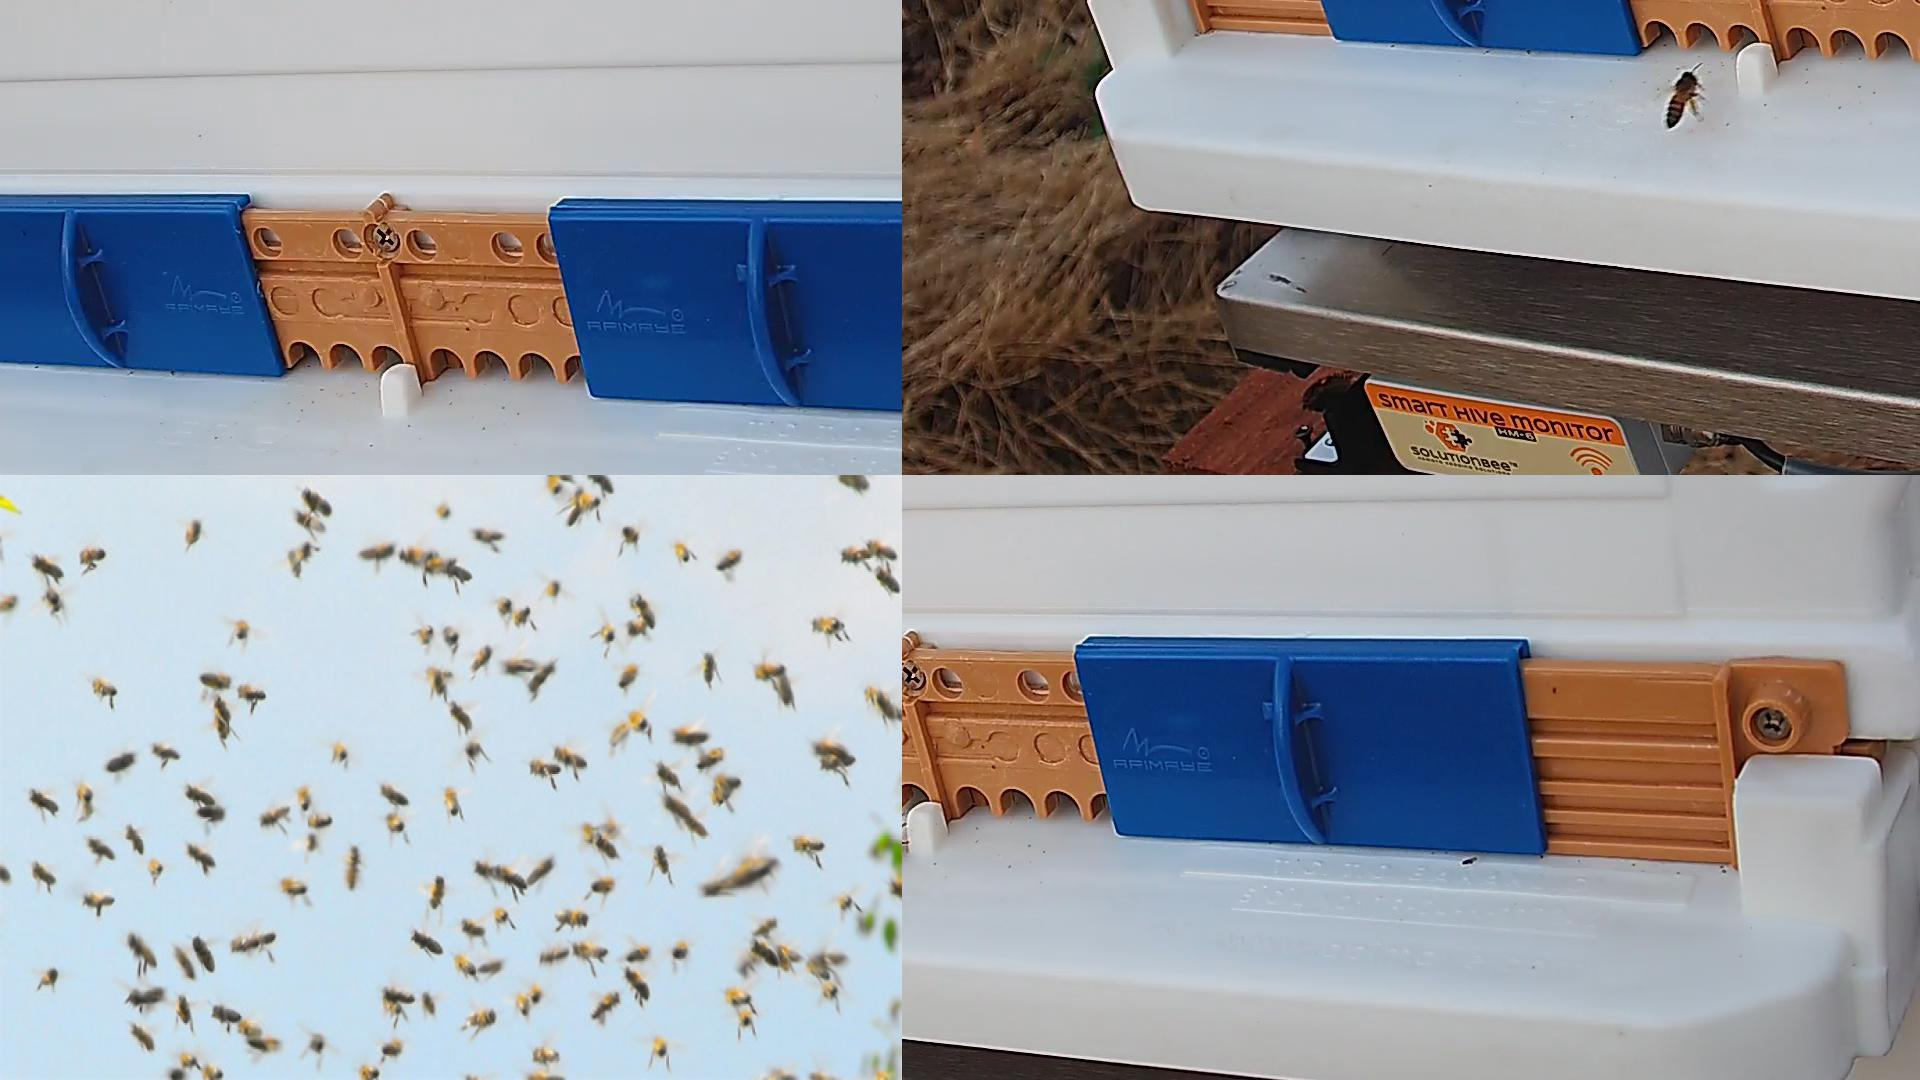bee: (866, 686, 901, 720), (129, 932, 157, 967), (624, 967, 650, 998), (744, 856, 778, 880), (815, 742, 856, 762), (679, 811, 708, 837), (529, 856, 555, 885), (193, 938, 214, 973), (303, 487, 330, 514), (704, 876, 741, 895), (750, 939, 777, 967), (592, 992, 620, 1018), (471, 862, 505, 884), (186, 843, 216, 866), (131, 1022, 154, 1052), (413, 931, 443, 953), (715, 775, 740, 802), (529, 662, 553, 690), (185, 787, 218, 807), (32, 555, 65, 575), (380, 783, 409, 806), (495, 868, 525, 889), (866, 539, 897, 560), (127, 988, 161, 1006), (215, 699, 231, 738), (290, 543, 314, 570), (876, 568, 899, 595), (555, 910, 588, 928), (452, 700, 472, 731), (32, 790, 58, 812), (398, 549, 433, 566), (247, 932, 276, 952), (810, 952, 849, 967), (636, 599, 655, 628), (574, 944, 607, 961), (567, 489, 583, 525), (595, 836, 618, 860), (699, 748, 724, 770), (90, 837, 115, 860), (127, 824, 145, 855), (775, 944, 794, 975), (175, 948, 194, 978), (662, 795, 688, 816), (554, 749, 585, 766), (79, 785, 95, 819), (793, 835, 824, 852), (811, 618, 843, 636), (212, 1004, 241, 1022), (347, 845, 359, 890), (716, 549, 741, 570), (471, 645, 491, 671), (587, 475, 613, 495), (260, 807, 290, 824), (653, 844, 670, 874), (541, 947, 568, 965), (33, 861, 55, 884), (756, 661, 785, 678), (531, 758, 560, 775), (740, 952, 760, 977), (107, 752, 133, 770), (297, 513, 323, 531), (841, 549, 872, 564), (837, 475, 870, 489), (777, 676, 794, 704), (657, 765, 679, 786), (617, 665, 637, 688), (823, 756, 847, 775), (281, 877, 306, 895), (778, 944, 803, 963), (444, 787, 460, 816), (430, 876, 444, 907), (468, 1010, 497, 1026), (363, 543, 394, 558), (196, 806, 223, 823), (458, 956, 477, 978), (84, 893, 115, 907), (156, 744, 179, 762), (592, 874, 616, 893), (430, 558, 454, 576), (723, 989, 752, 1004), (451, 564, 473, 583), (753, 916, 777, 934), (232, 935, 256, 952), (626, 945, 650, 963), (237, 1018, 261, 1035), (237, 686, 265, 700), (251, 1038, 278, 1052), (200, 674, 231, 687), (473, 529, 504, 542), (430, 670, 446, 695), (460, 919, 485, 935), (534, 1048, 559, 1064), (549, 475, 574, 491), (384, 989, 415, 1001), (45, 588, 61, 612), (443, 625, 459, 649), (177, 996, 191, 1021), (814, 957, 831, 978), (92, 680, 116, 695), (671, 942, 690, 960), (384, 997, 402, 1015), (609, 725, 629, 742), (504, 659, 535, 670), (310, 812, 332, 827), (703, 653, 713, 683), (630, 712, 649, 729), (385, 814, 402, 832), (422, 990, 435, 1014), (187, 520, 200, 543), (79, 549, 105, 560), (516, 605, 531, 625), (678, 732, 707, 742), (418, 624, 433, 645), (203, 1065, 223, 1080), (480, 961, 504, 973), (465, 740, 480, 758), (493, 906, 508, 924), (654, 1036, 669, 1055), (236, 618, 249, 638), (299, 786, 310, 810), (582, 823, 592, 847), (518, 994, 530, 1015), (41, 968, 58, 982), (311, 1034, 326, 1051), (0, 596, 17, 611), (676, 543, 690, 562), (626, 622, 645, 636), (583, 498, 599, 513), (334, 744, 347, 761), (600, 622, 613, 640), (360, 1067, 381, 1077), (179, 1054, 198, 1065), (822, 985, 837, 998), (622, 527, 638, 541), (306, 833, 316, 852), (148, 860, 161, 874), (837, 895, 852, 909), (531, 984, 542, 1001), (547, 579, 558, 596), (500, 597, 510, 615), (740, 1010, 752, 1025), (384, 1044, 398, 1056), (607, 814, 615, 835), (0, 865, 9, 882), (167, 1069, 185, 1079), (439, 504, 450, 516)
pollenbee: (1665, 70, 1700, 128)
